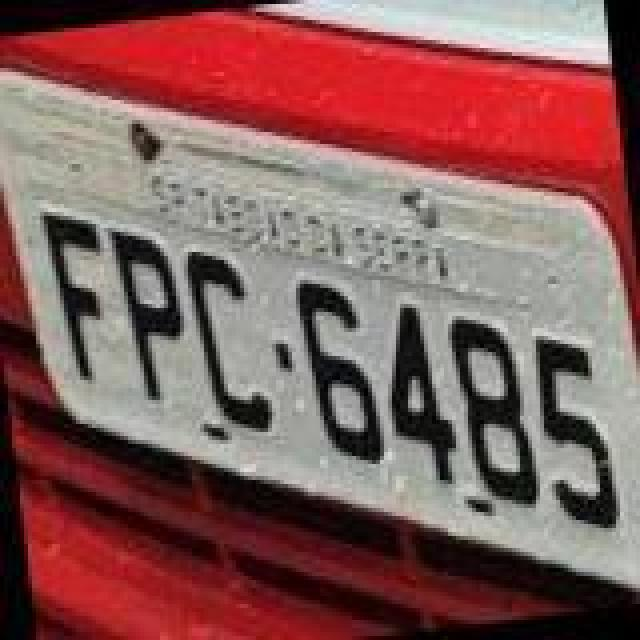4: (378, 296, 462, 488)
5: (530, 328, 622, 536)
6: (294, 268, 386, 468)
8: (448, 306, 544, 510)
C: (182, 242, 274, 438)
F: (42, 208, 118, 384)
P: (110, 220, 194, 404)
